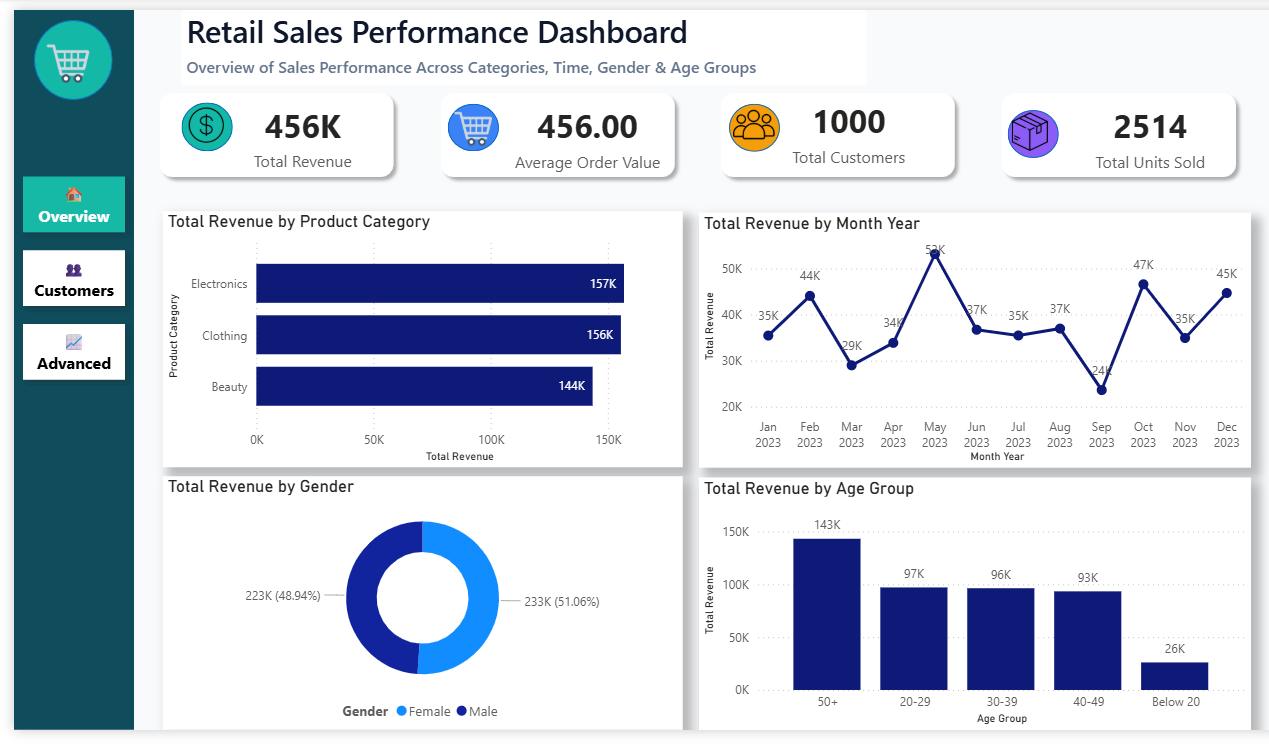

The dashboard page shown, as its layout file describes it:
{"tool":"powerbi","page":{"name":"Overview","canvas":[1280,720],"ordinal":0},"visuals":[{"type":"clusteredBarChart","fields":{"Category":["retail_sales_dataset.Product Category"],"Y":["retail_sales_dataset.Total Revenue"]},"box":[148.8,201.2,520,256.2],"z":0},{"type":"lineChart","fields":{"Y":["retail_sales_dataset.Total Revenue"],"Category":["retail_sales_dataset.Month Year"]},"box":[684.7,203.1,551.6,255.2],"z":1000},{"type":"donutChart","fields":{"Category":["retail_sales_dataset.Gender"],"Y":["retail_sales_dataset.Total Revenue"]},"box":[148.8,466.2,520,253.8],"z":2000},{"type":"clusteredColumnChart","fields":{"Y":["retail_sales_dataset.Total Revenue"],"Category":["retail_sales_dataset.Age Group"]},"box":[684.7,467.9,551.6,252.5],"z":3000},{"type":"textbox","title":"Retail Sales Performance Dashboard","box":[167.4,0,684.7,75.5],"z":4000},{"type":"shape","box":[0,0,120,719.8],"z":5000},{"type":"shape","box":[20,10,78.8,80],"z":6000},{"type":"image","box":[20,32.5,67.5,42.5],"z":7000},{"type":"shape","box":[137.2,75.6,250,100],"z":8000},{"type":"shape","box":[418.2,75.6,250,100],"z":9000},{"type":"shape","box":[699.2,75.6,250,100],"z":10000},{"type":"shape","box":[980.2,75.6,250,100],"z":11000},{"type":"shape","box":[167.5,92.5,51.2,48.8],"z":12000},{"type":"image","box":[167.5,97.5,50,35],"z":13000},{"type":"shape","box":[433.8,93.8,51.2,47.5],"z":14000},{"type":"image","box":[430,100,58.8,37.5],"z":15000},{"type":"shape","box":[715,93.8,51,48],"z":16000},{"type":"shape","box":[994.2,100,51,48],"z":17000},{"type":"image","box":[706.2,93.8,67.5,41.2],"z":18000},{"type":"image","box":[986.2,102.5,58.8,38.8],"z":19000},{"type":"card","fields":{"Values":["retail_sales_dataset.Total Revenue"]},"box":[209.3,89.5,160.5,73.3],"z":20000},{"type":"card","fields":{"Values":["retail_sales_dataset.Average Order Value"]},"box":[483.7,80.2,180.2,94.2],"z":21000},{"type":"card","fields":{"Values":["retail_sales_dataset.Total Customers"]},"box":[743,75.6,184.9,94.2],"z":22000},{"type":"card","fields":{"Values":["retail_sales_dataset.Total Units Sold"]},"box":[1050,80.2,173.3,94.2],"z":23000},{"type":"actionButton","box":[0,157.5,120,73.8],"z":24000},{"type":"actionButton","box":[0,231.2,120,73.8],"z":25000},{"type":"actionButton","box":[0,305,120,73.8],"z":26000}]}

Visuals, with their boxes on the page's 1280x720 design canvas (x1, y1, x2, y2). These are canvas units, not pixel positions in the 1269x752 screenshot, which may show the page scaled, cropped or inside an application window:
clusteredBarChart - retail_sales_dataset.Product Category x retail_sales_dataset.Total Revenue: box=[149, 201, 669, 457]
lineChart - retail_sales_dataset.Total Revenue x retail_sales_dataset.Month Year: box=[685, 203, 1236, 458]
donutChart - retail_sales_dataset.Gender x retail_sales_dataset.Total Revenue: box=[149, 466, 669, 720]
clusteredColumnChart - retail_sales_dataset.Total Revenue x retail_sales_dataset.Age Group: box=[685, 468, 1236, 720]
"Retail Sales Performance Dashboard" textbox: box=[167, 0, 852, 76]
shape: box=[0, 0, 120, 720]
shape: box=[20, 10, 99, 90]
image: box=[20, 32, 88, 75]
shape: box=[137, 76, 387, 176]
shape: box=[418, 76, 668, 176]
shape: box=[699, 76, 949, 176]
shape: box=[980, 76, 1230, 176]
shape: box=[168, 92, 219, 141]
image: box=[168, 98, 218, 132]
shape: box=[434, 94, 485, 141]
image: box=[430, 100, 489, 138]
shape: box=[715, 94, 766, 142]
shape: box=[994, 100, 1045, 148]
image: box=[706, 94, 774, 135]
image: box=[986, 102, 1045, 141]
card - retail_sales_dataset.Total Revenue: box=[209, 90, 370, 163]
card - retail_sales_dataset.Average Order Value: box=[484, 80, 664, 174]
card - retail_sales_dataset.Total Customers: box=[743, 76, 928, 170]
card - retail_sales_dataset.Total Units Sold: box=[1050, 80, 1223, 174]
actionButton: box=[0, 158, 120, 231]
actionButton: box=[0, 231, 120, 305]
actionButton: box=[0, 305, 120, 379]
